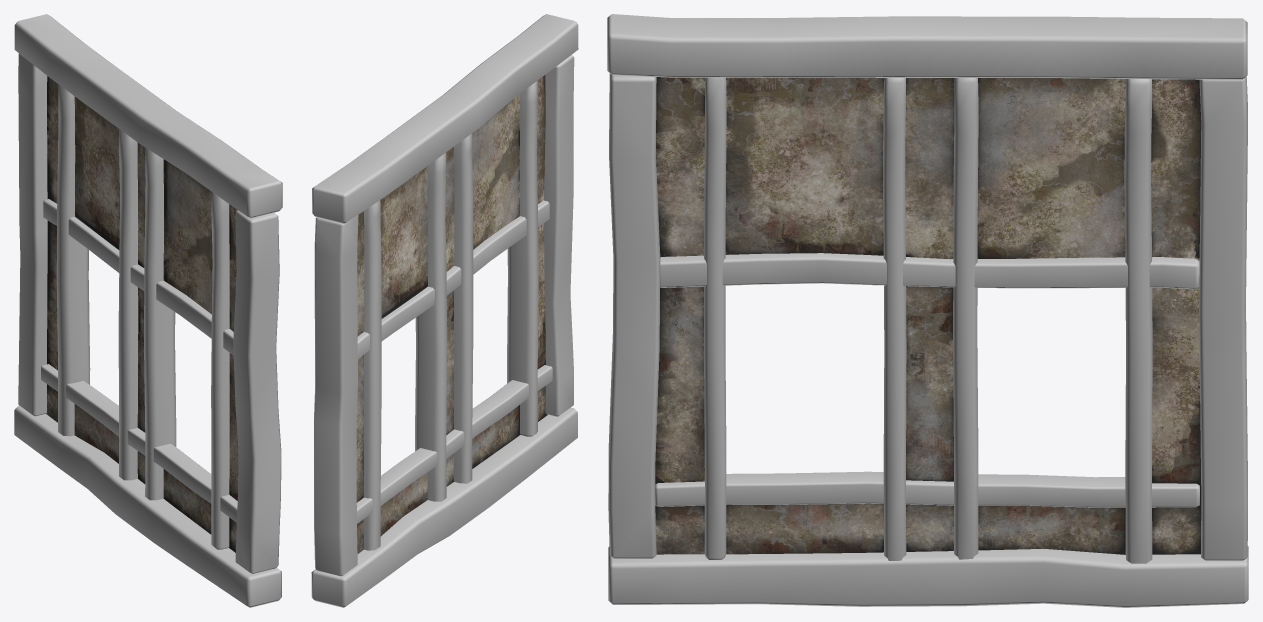
The model's file is SM_Wall2WindowBigO.fbx.
3 renders of one model, left to right at view 1: azimuth 30°, elevation 25°; view 2: azimuth 150°, elevation 25°; view 3: azimuth 270°, elevation 25°, orthographic. The views are drawn at different scales.
Visible parts, largest first — view 1: SM_Wall2WindowBigO_LOD0; view 2: SM_Wall2WindowBigO_LOD0; view 3: SM_Wall2WindowBigO_LOD0.
Part boxes in pixels (x1,y1,x2,y2): SM_Wall2WindowBigO_LOD0: [14, 14, 282, 607]; SM_Wall2WindowBigO_LOD0: [311, 14, 578, 607]; SM_Wall2WindowBigO_LOD0: [607, 14, 1248, 607].
Size of the model in its own units: 40.52 by 412 by 408.
